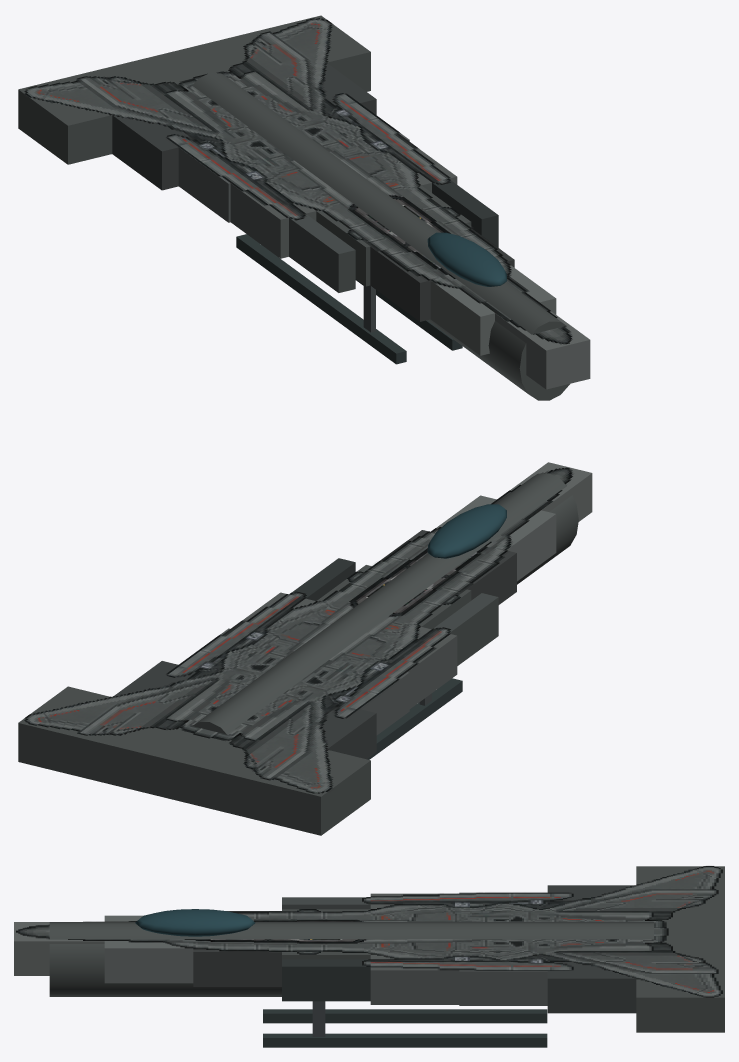
File: CMU3DReduxCMUFighterGround.glb
3 views of the same model, one above another, from view 1: azimuth 30°, elevation 25°; view 2: azimuth 150°, elevation 25°; view 3: azimuth 270°, elevation 25° (orthographic). The views are drawn at different scales.
Visible parts, largest first — view 1: airframe section (×10), airframe original finish (×2), rounded fuselage keel, landing skid (×2), cockpit canopy; view 2: airframe section (×10), airframe original finish (×2), rounded fuselage keel, cockpit canopy, landing skid; view 3: airframe section (×10), airframe original finish (×2), rounded fuselage keel, landing skid (×2), cockpit canopy, landing gear strut.
Part boxes in pixels (x1,y1,x2,y2): airframe section (×10): (18, 15, 590, 389); airframe original finish (×2): (24, 18, 572, 344); rounded fuselage keel: (192, 73, 569, 400); landing skid (×2): (236, 234, 462, 364); cockpit canopy: (427, 232, 506, 286); airframe section (×10): (18, 462, 592, 835); airframe original finish (×2): (24, 467, 573, 793); rounded fuselage keel: (192, 473, 578, 734); cockpit canopy: (427, 504, 506, 558); landing skid: (367, 678, 462, 759); airframe section (×10): (14, 866, 724, 1032); airframe original finish (×2): (16, 866, 722, 997); rounded fuselage keel: (49, 922, 653, 996); landing skid (×2): (263, 1009, 547, 1047); cockpit canopy: (135, 909, 255, 936); landing gear strut: (312, 1001, 325, 1036).
Bounding box in the file's own units: 3.01 × 1.25 × 6.68.
Materials: 14 (2 with a texture image).
